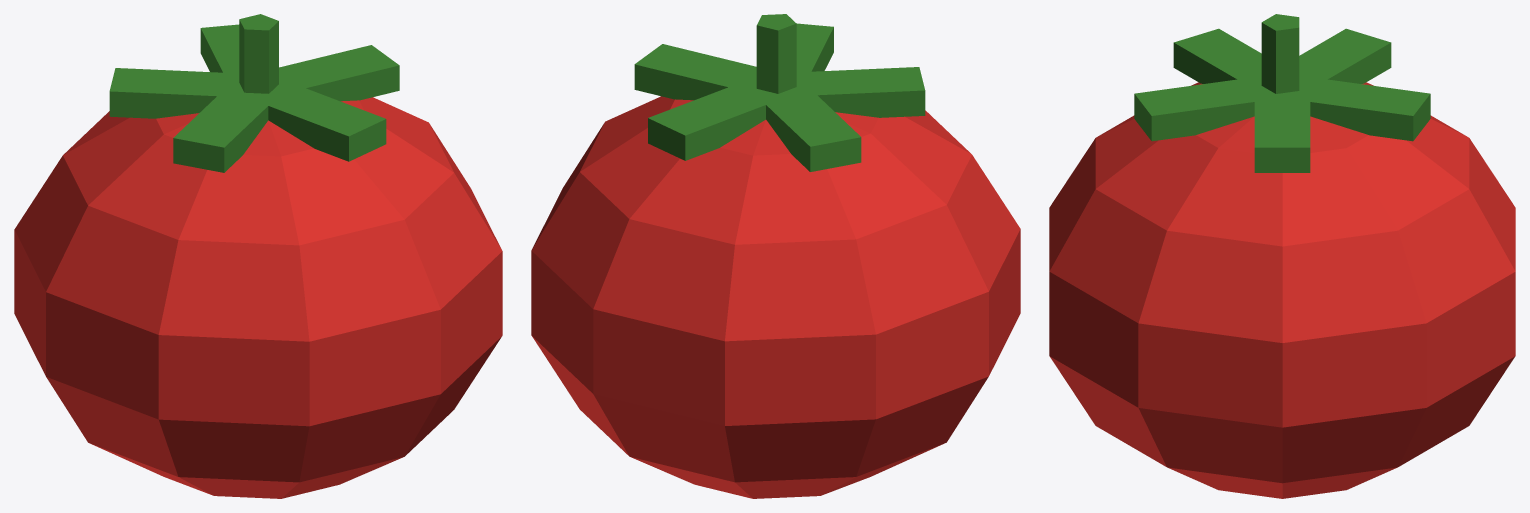
File: rally_tomato.glb
The picture shows the model from 3 angles, left to right: view 1: azimuth 30°, elevation 25°; view 2: azimuth 150°, elevation 25°; view 3: azimuth 270°, elevation 25°; orthographic projection.
Parts seen in each view (by area): view 1: tomato_tomato_red, tomato_tomato_leaf; view 2: tomato_tomato_red, tomato_tomato_leaf; view 3: tomato_tomato_red, tomato_tomato_leaf.
Part boxes in pixels (<box>): tomato_tomato_red: <box>14,97,502,498</box>; tomato_tomato_leaf: <box>109,14,399,172</box>; tomato_tomato_red: <box>531,96,1020,498</box>; tomato_tomato_leaf: <box>634,14,925,171</box>; tomato_tomato_red: <box>1049,82,1515,498</box>; tomato_tomato_leaf: <box>1134,14,1430,172</box>.
Size of the model in its own units: 0.0702 by 0.071 by 0.0668.
